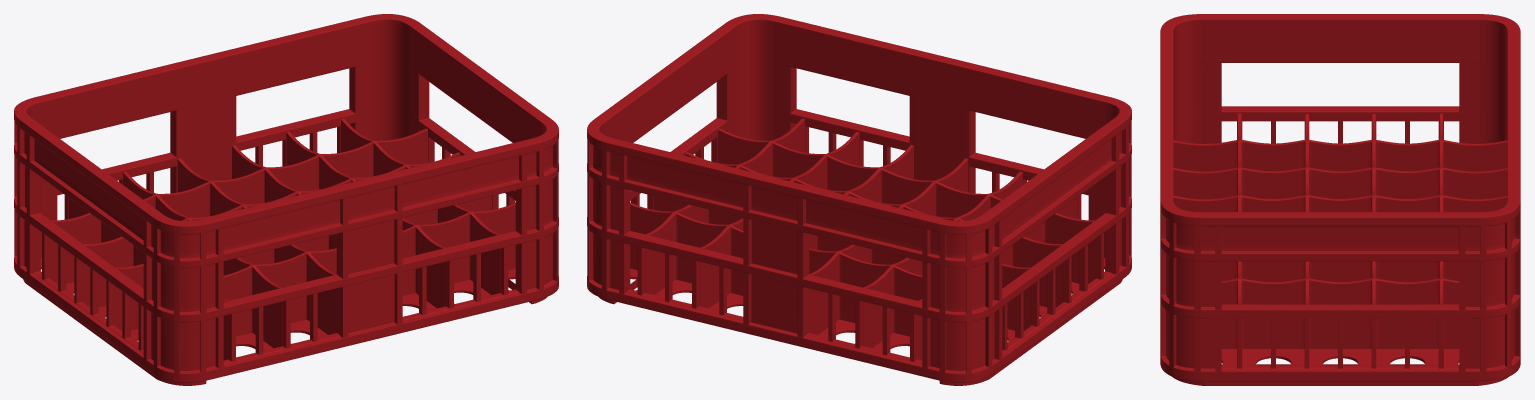
File: red_crate.glb
3 renders of one model, left to right at view 1: azimuth 30°, elevation 25°; view 2: azimuth 150°, elevation 25°; view 3: azimuth 270°, elevation 25°, orthographic. The views are drawn at different scales.
Parts seen in each view (by area): view 1: CrateB; view 2: CrateB; view 3: CrateB.
Boxes of the visible parts, box(x1,y1,x2,y2) form: CrateB: box(14, 14, 558, 385); CrateB: box(587, 14, 1131, 385); CrateB: box(1160, 14, 1520, 385).
Bounding box in the file's own units: 0.5051 × 0.1975 × 0.378.
1 material, 1 textured.
